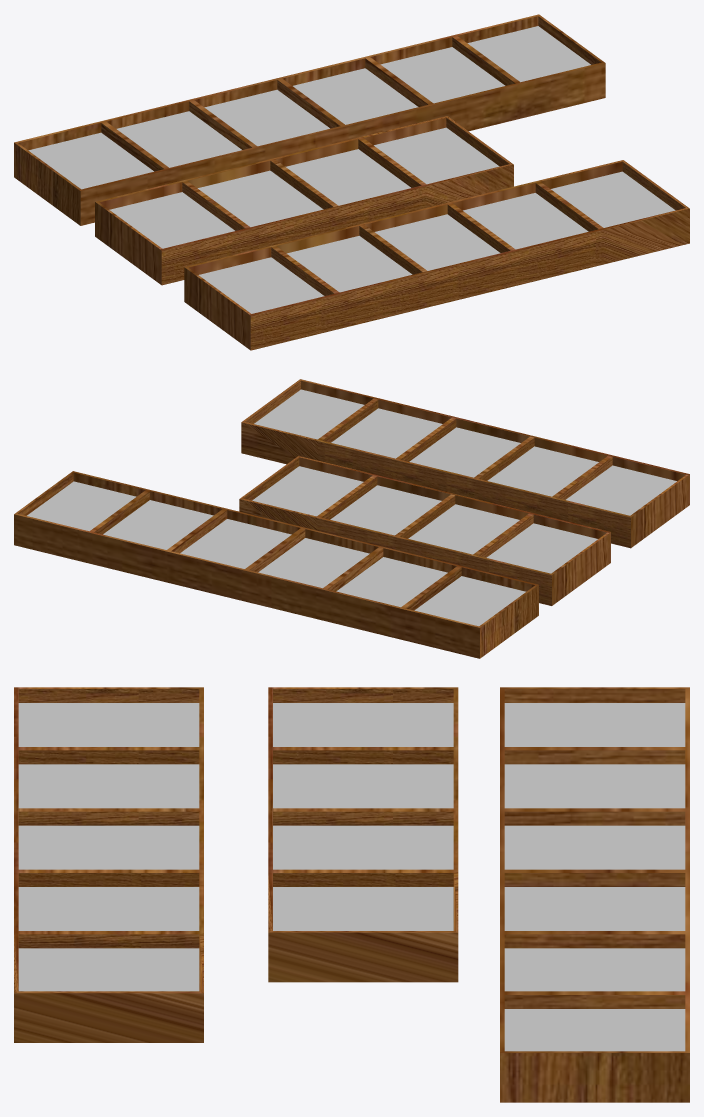
The model's file is crop yields.fbx.
3 renders of one model, top to bottom at view 1: azimuth 30°, elevation 25°; view 2: azimuth 150°, elevation 25°; view 3: azimuth 270°, elevation 25°, orthographic. The views are drawn at different scales.
Visible parts, largest first — view 1: pCube2, pCube4, pCube3; view 2: pCube2, pCube4, pCube3; view 3: pCube2, pCube4, pCube3.
Boxes of the visible parts, x1,y1,x2,y2 form: pCube2: (14, 14, 605, 225); pCube4: (184, 160, 689, 350); pCube3: (95, 116, 513, 285); pCube2: (14, 471, 538, 658); pCube4: (241, 379, 689, 548); pCube3: (239, 456, 610, 605); pCube2: (500, 687, 689, 1102); pCube4: (14, 687, 203, 1042); pCube3: (268, 687, 458, 982).
Bounding box in the file's own units: 149 × 9.46 × 116.
